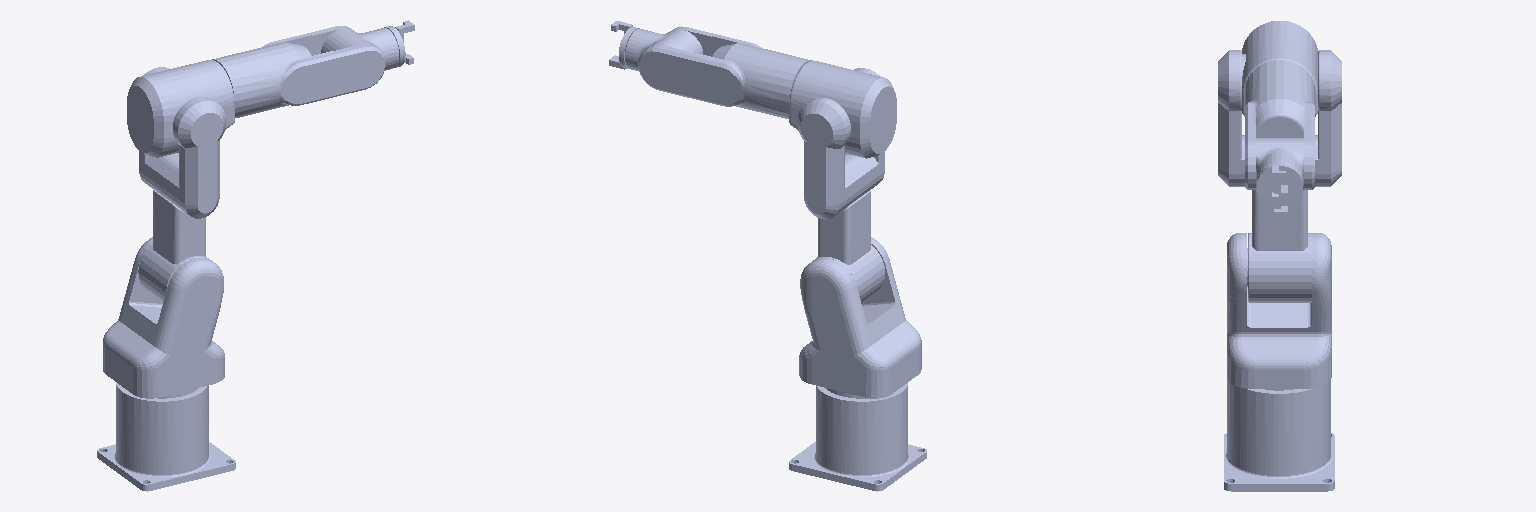
robot.urdf — six_axis_robot_urdf1:
<?xml version="1.0" encoding="utf-8"?>
<!-- This URDF was automatically created by SolidWorks to URDF Exporter! Originally created by [author] ([email redacted]) 
     Commit Version: 1.6.0-4-g7f85cfe  Build Version: 1.6.7995.38578
     For more information, please see http://wiki.ros.org/sw_urdf_exporter -->
<robot
  name="six_axis_robot_urdf1">
  <link
    name="base_link">
    <inertial>
      <origin
        xyz="0.0798745788359631 -0.079 0.0736715388774331"
        rpy="0 0 0" />
      <mass
        value="2.74509771064634" />
      <inertia
        ixx="0.0096215758113607"
        ixy="-3.60982518941985E-19"
        ixz="0.000162466125610687"
        iyy="0.00976445376581624"
        iyz="6.34863574640816E-19"
        izz="0.00791025691621762" />
    </inertial>
    <visual>
      <origin
        xyz="0 0 0"
        rpy="0 0 0" />
      <geometry>
        <mesh
          filename="package://six_axis_robot_urdf1/meshes/base_link.STL" />
      </geometry>
      <material
        name="">
        <color
          rgba="0.792156862745098 0.819607843137255 0.933333333333333 1" />
      </material>
    </visual>
    <collision>
      <origin
        xyz="0 0 0"
        rpy="0 0 0" />
      <geometry>
        <mesh
          filename="package://six_axis_robot_urdf1/meshes/base_link.STL" />
      </geometry>
    </collision>
  </link>
  <link
    name="joint_1">
    <inertial>
      <origin
        xyz="-0.00129605487991559 0.00135309809802346 0.0658781737081199"
        rpy="0 0 0" />
      <mass
        value="2.61497204364903" />
      <inertia
        ixx="0.0125508556232017"
        ixy="9.11703137730301E-05"
        ixz="0.00102825782583604"
        iyy="0.0113025849635249"
        iyz="-0.00035012453581269"
        izz="0.0099731354243766" />
    </inertial>
    <visual>
      <origin
        xyz="0 0 0"
        rpy="0 0 0" />
      <geometry>
        <mesh
          filename="package://six_axis_robot_urdf1/meshes/joint_1.STL" />
      </geometry>
      <material
        name="">
        <color
          rgba="0.792156862745098 0.819607843137255 0.933333333333333 1" />
      </material>
    </visual>
    <collision>
      <origin
        xyz="0 0 0"
        rpy="0 0 0" />
      <geometry>
        <mesh
          filename="package://six_axis_robot_urdf1/meshes/joint_1.STL" />
      </geometry>
    </collision>
  </link>
  <joint
    name="arm_1"
    type="revolute">
    <origin
      xyz="0.084 -0.079 0.1585"
      rpy="0 0 3.1416" />
    <parent
      link="base_link" />
    <child
      link="joint_1" />
    <axis
      xyz="0 0 1" />
    <limit
      lower="-4"
      upper="4"
      effort="10000"
      velocity="1" />
    <dynamics
      damping="0.2"
      friction="0.5" />
  </joint>
  <link
    name="joint_2">
    <inertial>
      <origin
        xyz="-2.1588010268303E-09 0.129202032374396 -0.000178358997350511"
        rpy="0 0 0" />
      <mass
        value="2.41744554399568" />
      <inertia
        ixx="0.0124923169986663"
        ixy="2.99448023717225E-10"
        ixz="-1.55103797626974E-09"
        iyy="0.00626764423594557"
        iyz="0.000409579955508348"
        izz="0.00827354076615877" />
    </inertial>
    <visual>
      <origin
        xyz="0 0 0"
        rpy="0 0 0" />
      <geometry>
        <mesh
          filename="package://six_axis_robot_urdf1/meshes/joint_2.STL" />
      </geometry>
      <material
        name="">
        <color
          rgba="0.792156862745098 0.819607843137255 0.933333333333333 1" />
      </material>
    </visual>
    <collision>
      <origin
        xyz="0 0 0"
        rpy="0 0 0" />
      <geometry>
        <mesh
          filename="package://six_axis_robot_urdf1/meshes/joint_2.STL" />
      </geometry>
    </collision>
  </link>
  <joint
    name="arm_2"
    type="revolute">
    <origin
      xyz="-0.027064 -0.001 0.16483"
      rpy="1.5708 0 0" />
    <parent
      link="joint_1" />
    <child
      link="joint_2" />
    <axis
      xyz="0 0 1" />
    <limit
      lower="-2"
      upper="2"
      effort="10000"
      velocity="1" />
    <dynamics
      damping="0.2"
      friction="0.5" />
  </joint>
  <link
    name="joint_3">
    <inertial>
      <origin
        xyz="0.00238701700038138 0.0177199774720578 -0.00783206709146609"
        rpy="0 0 0" />
      <mass
        value="1.53802960939755" />
      <inertia
        ixx="0.00395288265203851"
        ixy="1.48350507634032E-05"
        ixz="-1.77848842625229E-05"
        iyy="0.00351139616406424"
        iyz="-0.000344869926526457"
        izz="0.00297829088828289" />
    </inertial>
    <visual>
      <origin
        xyz="0 0 0"
        rpy="0 0 0" />
      <geometry>
        <mesh
          filename="package://six_axis_robot_urdf1/meshes/joint_3.STL" />
      </geometry>
      <material
        name="">
        <color
          rgba="0.792156862745098 0.819607843137255 0.933333333333333 1" />
      </material>
    </visual>
    <collision>
      <origin
        xyz="0 0 0"
        rpy="0 0 0" />
      <geometry>
        <mesh
          filename="package://six_axis_robot_urdf1/meshes/joint_3.STL" />
      </geometry>
    </collision>
  </link>
  <joint
    name="arm_3"
    type="revolute">
    <origin
      xyz="0 0.278 0"
      rpy="0 -1.5708 0.21508" />
    <parent
      link="joint_2" />
    <child
      link="joint_3" />
    <axis
      xyz="1 0 0" />
    <limit
      lower="-3.6"
      upper="1"
      effort="10000"
      velocity="1" />
    <dynamics
      damping="0.2"
      friction="0.5" />
  </joint>
  <link
    name="joint_4">
    <inertial>
      <origin
        xyz="0.000287515515776868 -7.60105534070021E-10 0.115107022990382"
        rpy="0 0 0" />
      <mass
        value="1.65438905910093" />
      <inertia
        ixx="0.00939546422129685"
        ixy="1.53548929500136E-09"
        ixz="-6.63031405657805E-05"
        iyy="0.0098881139468349"
        iyz="-2.80873656991026E-10"
        izz="0.00237982179759152" />
    </inertial>
    <visual>
      <origin
        xyz="0 0 0"
        rpy="0 0 0" />
      <geometry>
        <mesh
          filename="package://six_axis_robot_urdf1/meshes/joint_4.STL" />
      </geometry>
      <material
        name="">
        <color
          rgba="0.792156862745098 0.819607843137255 0.933333333333333 1" />
      </material>
    </visual>
    <collision>
      <origin
        xyz="0 0 0"
        rpy="0 0 0" />
      <geometry>
        <mesh
          filename="package://six_axis_robot_urdf1/meshes/joint_4.STL" />
      </geometry>
    </collision>
  </link>
  <joint
    name="arm_4"
    type="revolute">
    <origin
      xyz="0 0.044548 0.053986"
      rpy="0.21508 0 3.1416" />
    <parent
      link="joint_3" />
    <child
      link="joint_4" />
    <axis
      xyz="0 0 1" />
    <limit
      lower="-4"
      upper="4"
      effort="10000"
      velocity="1" />
    <dynamics
      damping="0.2"
      friction="0.5" />
  </joint>
  <link
    name="joint_5">
    <inertial>
      <origin
        xyz="-7.33958749332686E-09 -0.0145979955728184 -0.00125655043772784"
        rpy="0 0 0" />
      <mass
        value="0.37854190562683" />
      <inertia
        ixx="0.000418705803441084"
        ixy="-1.44552108077641E-10"
        ixz="3.1460585320023E-10"
        iyy="0.000256661716411154"
        iyz="6.94363062178592E-06"
        izz="0.000438888191656305" />
    </inertial>
    <visual>
      <origin
        xyz="0 0 0"
        rpy="0 0 0" />
      <geometry>
        <mesh
          filename="package://six_axis_robot_urdf1/meshes/joint_5.STL" />
      </geometry>
      <material
        name="">
        <color
          rgba="0.792156862745098 0.819607843137255 0.933333333333333 1" />
      </material>
    </visual>
    <collision>
      <origin
        xyz="0 0 0"
        rpy="0 0 0" />
      <geometry>
        <mesh
          filename="package://six_axis_robot_urdf1/meshes/joint_5.STL" />
      </geometry>
    </collision>
  </link>
  <joint
    name="arm_5"
    type="revolute">
    <origin
      xyz="0 0 0.2545"
      rpy="-1.5708 0.017333 -1.5708" />
    <parent
      link="joint_4" />
    <child
      link="joint_5" />
    <axis
      xyz="0 0 1" />
    <limit
      lower="-2.2"
      upper="2.1"
      effort="10000"
      velocity="1" />
    <dynamics
      damping="0.2"
      friction="0.5" />
  </joint>
  <link
    name="joint_6">
    <inertial>
      <origin
        xyz="1.11022302462516E-16 -8.32667268468867E-17 0.0238565916677733"
        rpy="0 0 0" />
      <mass
        value="0.0623936904960656" />
      <inertia
        ixx="2.09776386804914E-05"
        ixy="1.74999999999999E-07"
        ixz="-1.18849310411619E-20"
        iyy="2.21246386804914E-05"
        iyz="-2.58452582392193E-21"
        izz="2.84482815037578E-05" />
    </inertial>
    <visual>
      <origin
        xyz="0 0 0"
        rpy="0 0 0" />
      <geometry>
        <mesh
          filename="package://six_axis_robot_urdf1/meshes/joint_6.STL" />
      </geometry>
      <material
        name="">
        <color
          rgba="0.792156862745098 0.819607843137255 0.933333333333333 1" />
      </material>
    </visual>
    <collision>
      <origin
        xyz="0 0 0"
        rpy="0 0 0" />
      <geometry>
        <mesh
          filename="package://six_axis_robot_urdf1/meshes/joint_6.STL" />
      </geometry>
    </collision>
  </link>
  <joint
    name="arm_6"
    type="revolute">
    <origin
      xyz="0 -0.049316 0"
      rpy="1.5708 0 0" />
    <parent
      link="joint_5" />
    <child
      link="joint_6" />
    <axis
      xyz="0 0 1" />
    <limit
      lower="-7"
      upper="7"
      effort="10000"
      velocity="1" />
    <dynamics
      damping="0.2"
      friction="0.5" />
  </joint>
  <link
    name="Gripper1">
    <inertial>
      <origin
        xyz="-0.0212499999999998 -0.00574999999999992 0.0280198952400817"
        rpy="0 0 0" />
      <mass
        value="0.00799999999999998" />
      <inertia
        ixx="1.57083333333333E-06"
        ixy="8.74999999999993E-08"
        ixz="7.74999999999996E-07"
        iyy="2.17083333333332E-06"
        iyz="-1.74999999999999E-07"
        izz="9.08333333333329E-07" />
    </inertial>
    <visual>
      <origin
        xyz="0 0 0"
        rpy="0 0 0" />
      <geometry>
        <mesh
          filename="package://six_axis_robot_urdf1/meshes/Gripper1.STL" />
      </geometry>
      <material
        name="">
        <color
          rgba="0.792156862745098 0.819607843137255 0.933333333333333 1" />
      </material>
    </visual>
    <collision>
      <origin
        xyz="0 0 0"
        rpy="0 0 0" />
      <geometry>
        <mesh
          filename="package://six_axis_robot_urdf1/meshes/Gripper1.STL" />
      </geometry>
    </collision>
  </link>
  <joint
    name="Zange1"
    type="prismatic">
    <origin
      xyz="0 0 0.010664"
      rpy="0 0 3.1416" />
    <parent
      link="joint_6" />
    <child
      link="Gripper1" />
    <axis
      xyz="1 0 0" />
    <limit
      lower="0"
      upper="0"
      effort="0"
      velocity="0" />
  </joint>
  <link
    name="Gripper2">
    <inertial>
      <origin
        xyz="-0.02125 -0.00575000000000007 0.0280198952400818"
        rpy="0 0 0" />
      <mass
        value="0.00800000000000002" />
      <inertia
        ixx="1.57083333333334E-06"
        ixy="8.75E-08"
        ixz="7.74999999999999E-07"
        iyy="2.17083333333333E-06"
        iyz="-1.75E-07"
        izz="9.08333333333333E-07" />
    </inertial>
    <visual>
      <origin
        xyz="0 0 0"
        rpy="0 0 0" />
      <geometry>
        <mesh
          filename="package://six_axis_robot_urdf1/meshes/Gripper2.STL" />
      </geometry>
      <material
        name="">
        <color
          rgba="0.792156862745098 0.819607843137255 0.933333333333333 1" />
      </material>
    </visual>
    <collision>
      <origin
        xyz="0 0 0"
        rpy="0 0 0" />
      <geometry>
        <mesh
          filename="package://six_axis_robot_urdf1/meshes/Gripper2.STL" />
      </geometry>
    </collision>
  </link>
  <joint
    name="Zang2"
    type="prismatic">
    <origin
      xyz="0 0 0"
      rpy="0 0 3.1416" />
    <parent
      link="Gripper1" />
    <child
      link="Gripper2" />
    <axis
      xyz="1 0 0" />
    <limit
      lower="0"
      upper="0"
      effort="0"
      velocity="0" />
  </joint>
</robot>

--- What the picture shows (computed from the rendered views, not written in the file) ---
Views: 3 orthographic renders of the robot side by side, from view 1: azimuth 30°, elevation 25°; view 2: azimuth 150°, elevation 25°; view 3: azimuth 270°, elevation 25°.
Robot: six_axis_robot_urdf1 — 9 links, 8 joints (6 revolute, 2 prismatic); root link base_link; default pose: every joint at zero.
Links seen in each view (by area): view 1: joint_1, joint_2, base_link, joint_4, joint_3, joint_5; view 2: joint_1, joint_2, base_link, joint_4, joint_3, joint_5; view 3: joint_2, joint_1, base_link, joint_4, joint_3, joint_6, joint_5.
Link boxes in pixels (left/top/right/bottom): joint_1: left=103, top=237, right=224, bottom=398; joint_2: left=138, top=67, right=226, bottom=301; base_link: left=97, top=382, right=235, bottom=491; joint_4: left=212, top=26, right=385, bottom=117; joint_3: left=127, top=60, right=234, bottom=157; joint_5: left=321, top=28, right=398, bottom=70; joint_1: left=799, top=237, right=921, bottom=398; joint_2: left=797, top=68, right=884, bottom=302; base_link: left=789, top=383, right=926, bottom=491; joint_4: left=638, top=26, right=812, bottom=118; joint_3: left=789, top=61, right=896, bottom=158; joint_5: left=625, top=29, right=702, bottom=70; joint_2: left=1218, top=50, right=1341, bottom=302; joint_1: left=1227, top=233, right=1331, bottom=390; base_link: left=1224, top=380, right=1334, bottom=491; joint_4: left=1245, top=60, right=1314, bottom=189; joint_3: left=1242, top=21, right=1317, bottom=116; joint_6: left=1257, top=163, right=1302, bottom=217; joint_5: left=1256, top=138, right=1303, bottom=193.
Size in the robot's own frame: 0.5394 by 0.176 by 0.6838 metres.
Meshes: 9 distinct files referenced, 9 mesh visuals loaded (9 binary STL).